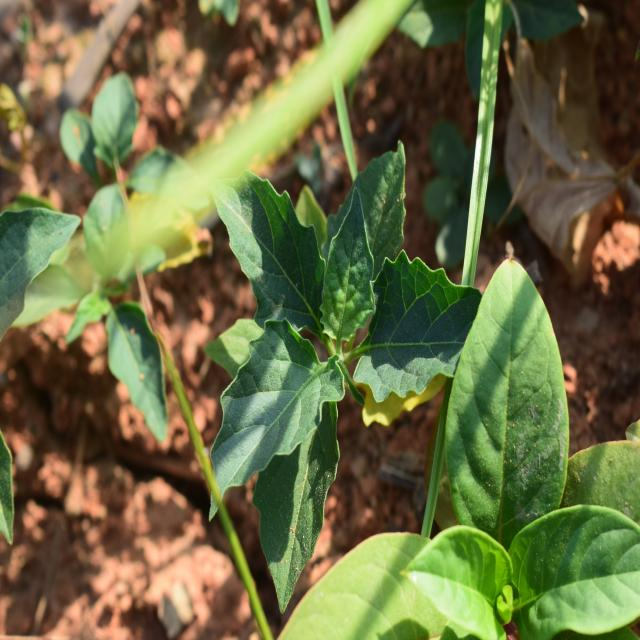Black_nightshade: (207, 193, 456, 530)
